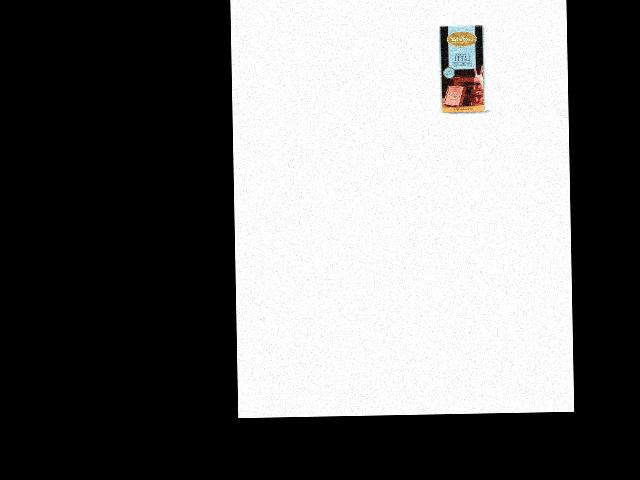chocolate: (437, 24, 487, 114)
